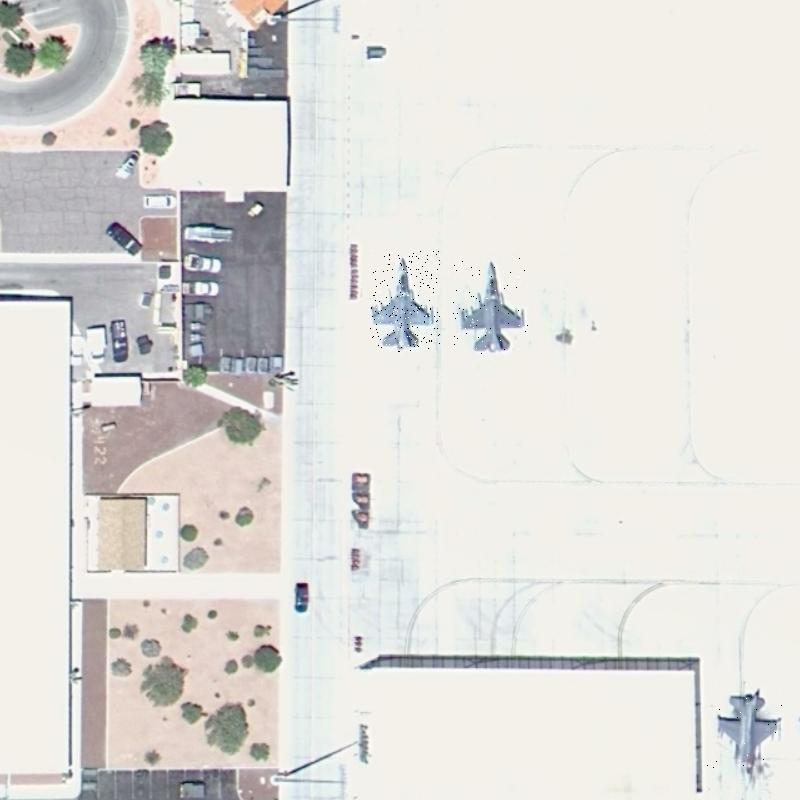A5: (707, 687, 784, 790), (453, 256, 528, 355), (370, 251, 440, 352)
